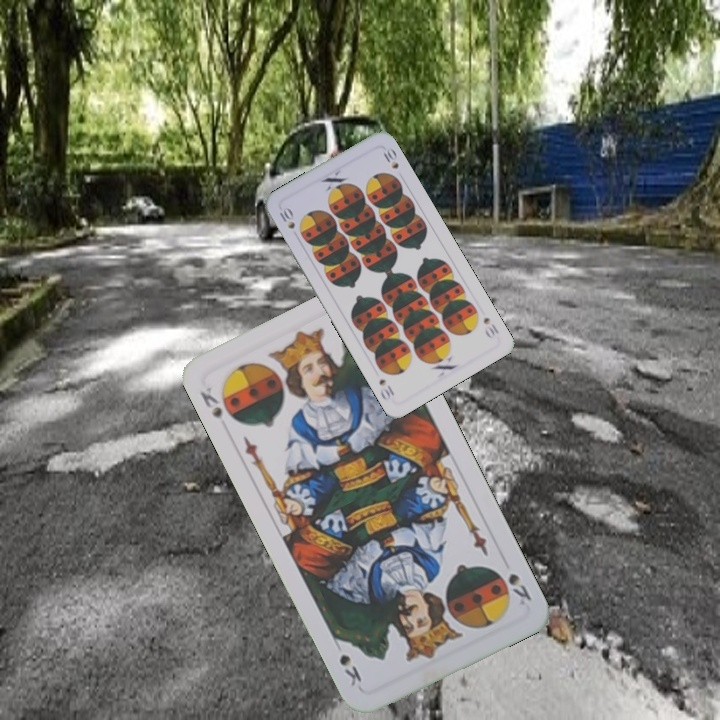S10: (479, 313, 502, 341), (275, 205, 298, 232)
SK: (196, 382, 240, 426), (504, 569, 534, 608)
